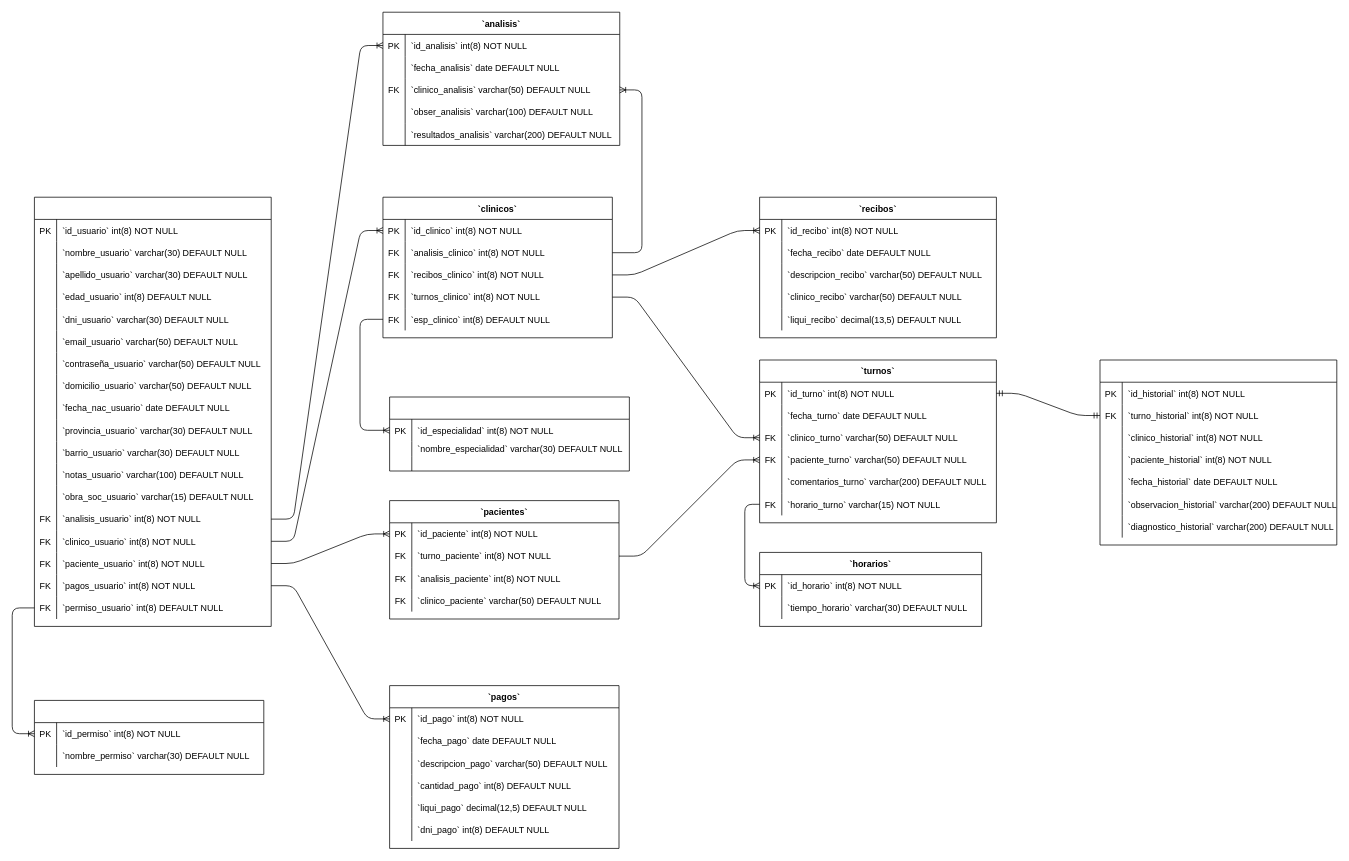
This 1349x861 diagram has some shape labels left out. The shapes that lost their labels are listed below. From the top down, each one's box as (x1, y1, x2, y2) in pixels, then its label:
(34, 196, 271, 626): `usuarios`
(389, 396, 629, 471): `especialidades`
(1099, 359, 1337, 545): `historiales`
(34, 700, 264, 774): `permisos`
